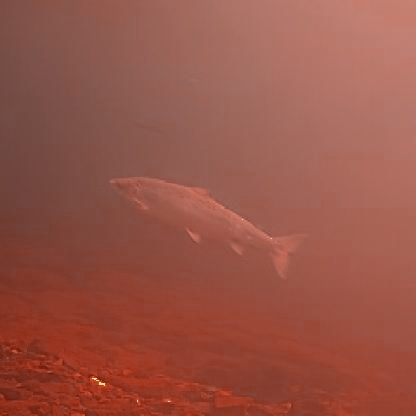salmon: (104, 170, 309, 279)
